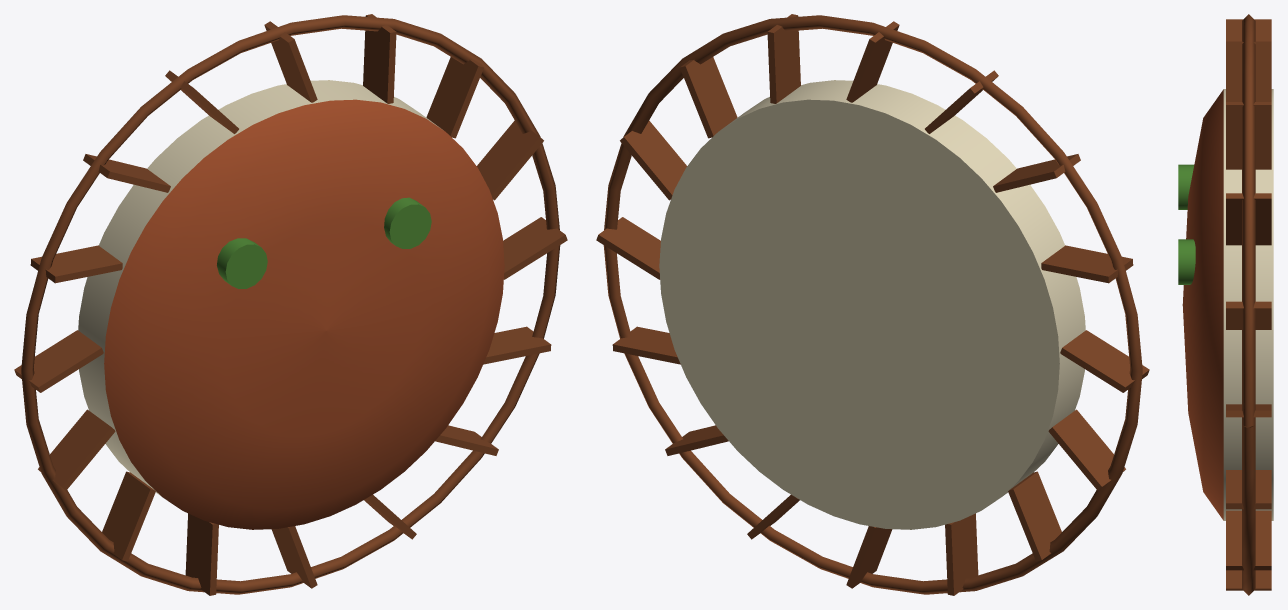
Rendered from pod100_cooler.obj.
3 views of the same model, side by side, from view 1: azimuth 30°, elevation 25°; view 2: azimuth 150°, elevation 25°; view 3: azimuth 270°, elevation 25° (orthographic). The views are drawn at different scales.
Visible parts, largest first — view 1: pod100_cooler; view 2: pod100_cooler; view 3: pod100_cooler.
Part boxes in pixels (left/top/right/bottom): pod100_cooler: left=14, top=14, right=567, bottom=595; pod100_cooler: left=596, top=14, right=1149, bottom=595; pod100_cooler: left=1178, top=14, right=1273, bottom=595.
Bounding box in the file's own units: 2.56 × 2.56 × 0.42.
